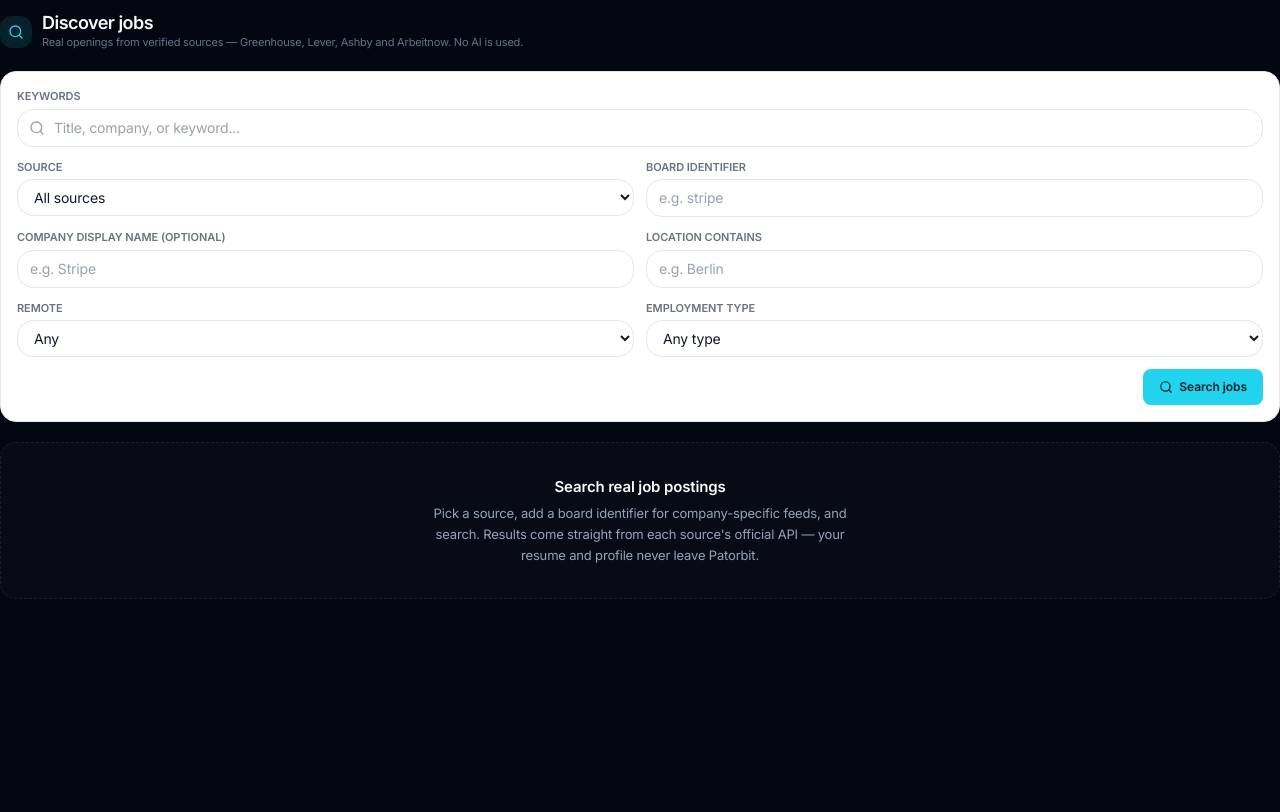
JobDiscoveryPanel › renders the rate-limit state from the shared 429 contract
Click the button "Search jobs": (1203, 387) [1143,369,1263,405]
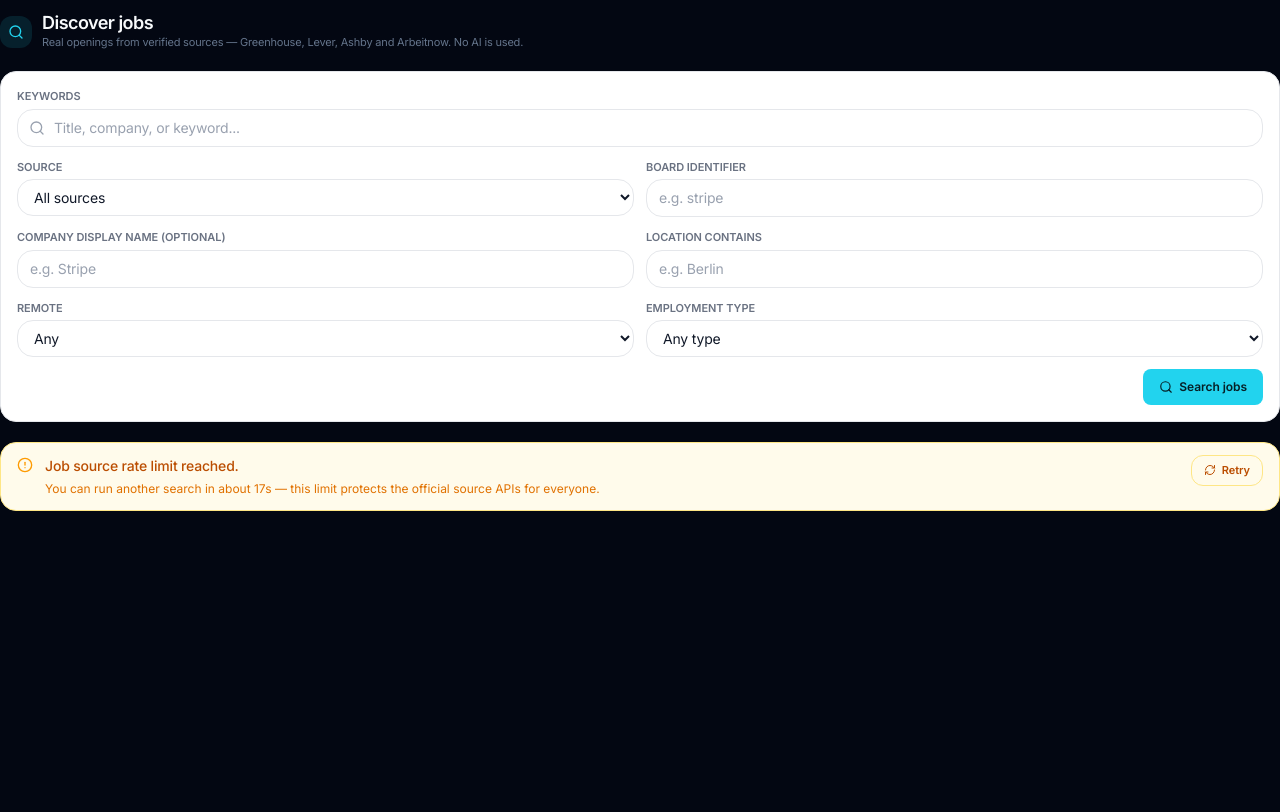
Check: the text "Job source rate limit reached" is shown, box [45,457,239,474]
Check: the text "17s" is shown, box [116,481,272,496]
Check: the message is shown, box [0,442,1279,511]
